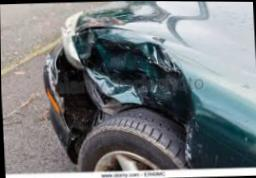Bumper: (40, 44, 103, 158)
Fender: (72, 34, 223, 164)
